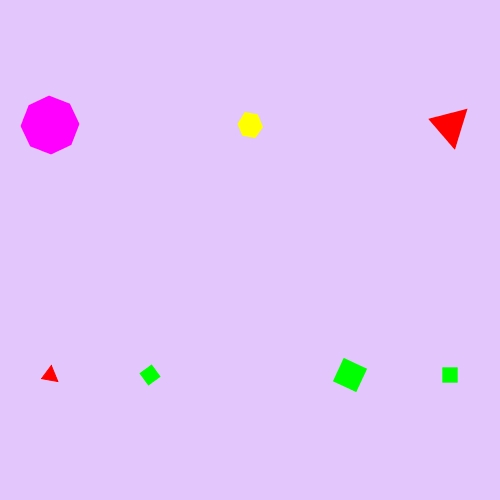hexagon: (232, 110, 268, 141)
octagon: (18, 93, 83, 158)
quadrilateral: (329, 354, 372, 397), (135, 360, 165, 390), (435, 360, 465, 390)
triangle: (428, 102, 472, 148), (38, 362, 63, 388)
